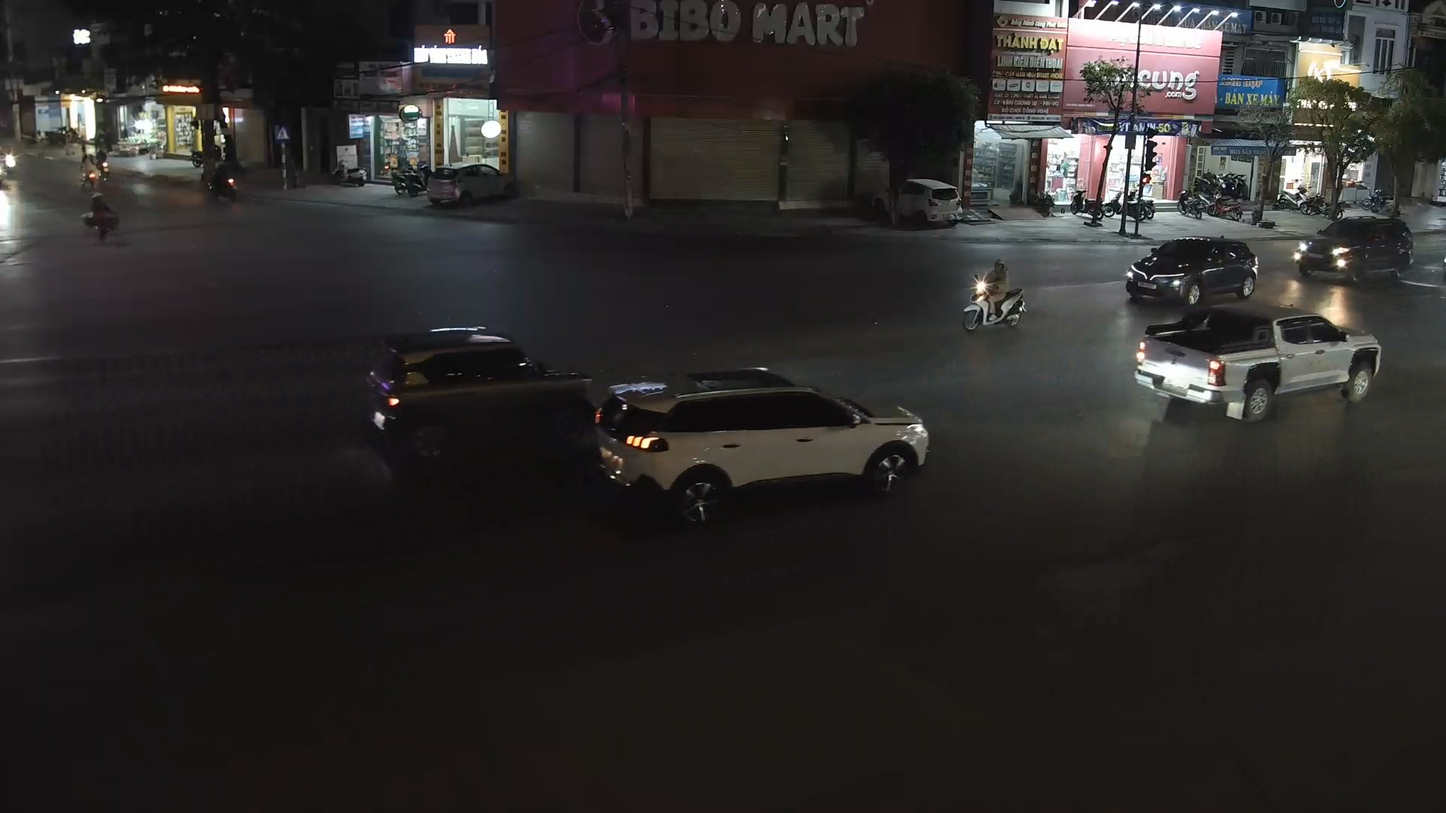car: (593, 366, 933, 525), (370, 323, 598, 485), (1134, 301, 1287, 421), (1272, 306, 1382, 405), (1123, 231, 1261, 309), (1293, 212, 1416, 287)
motorbike: (960, 257, 1029, 334), (364, 336, 410, 437), (80, 192, 121, 244)
